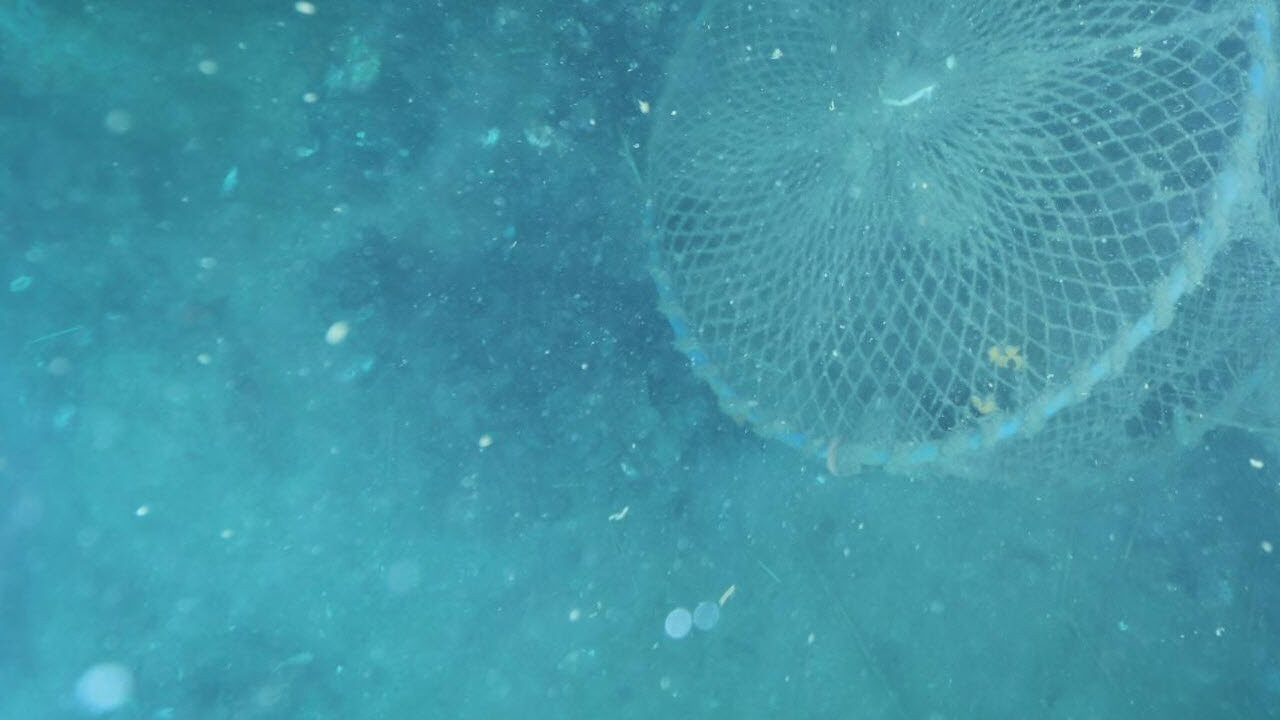circular fish trap: (637, 1, 1280, 499)
